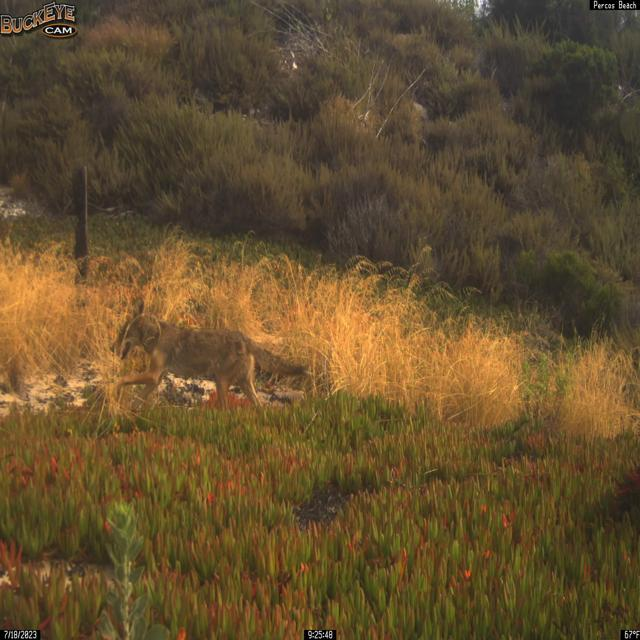coyote: (109, 295, 311, 415)
